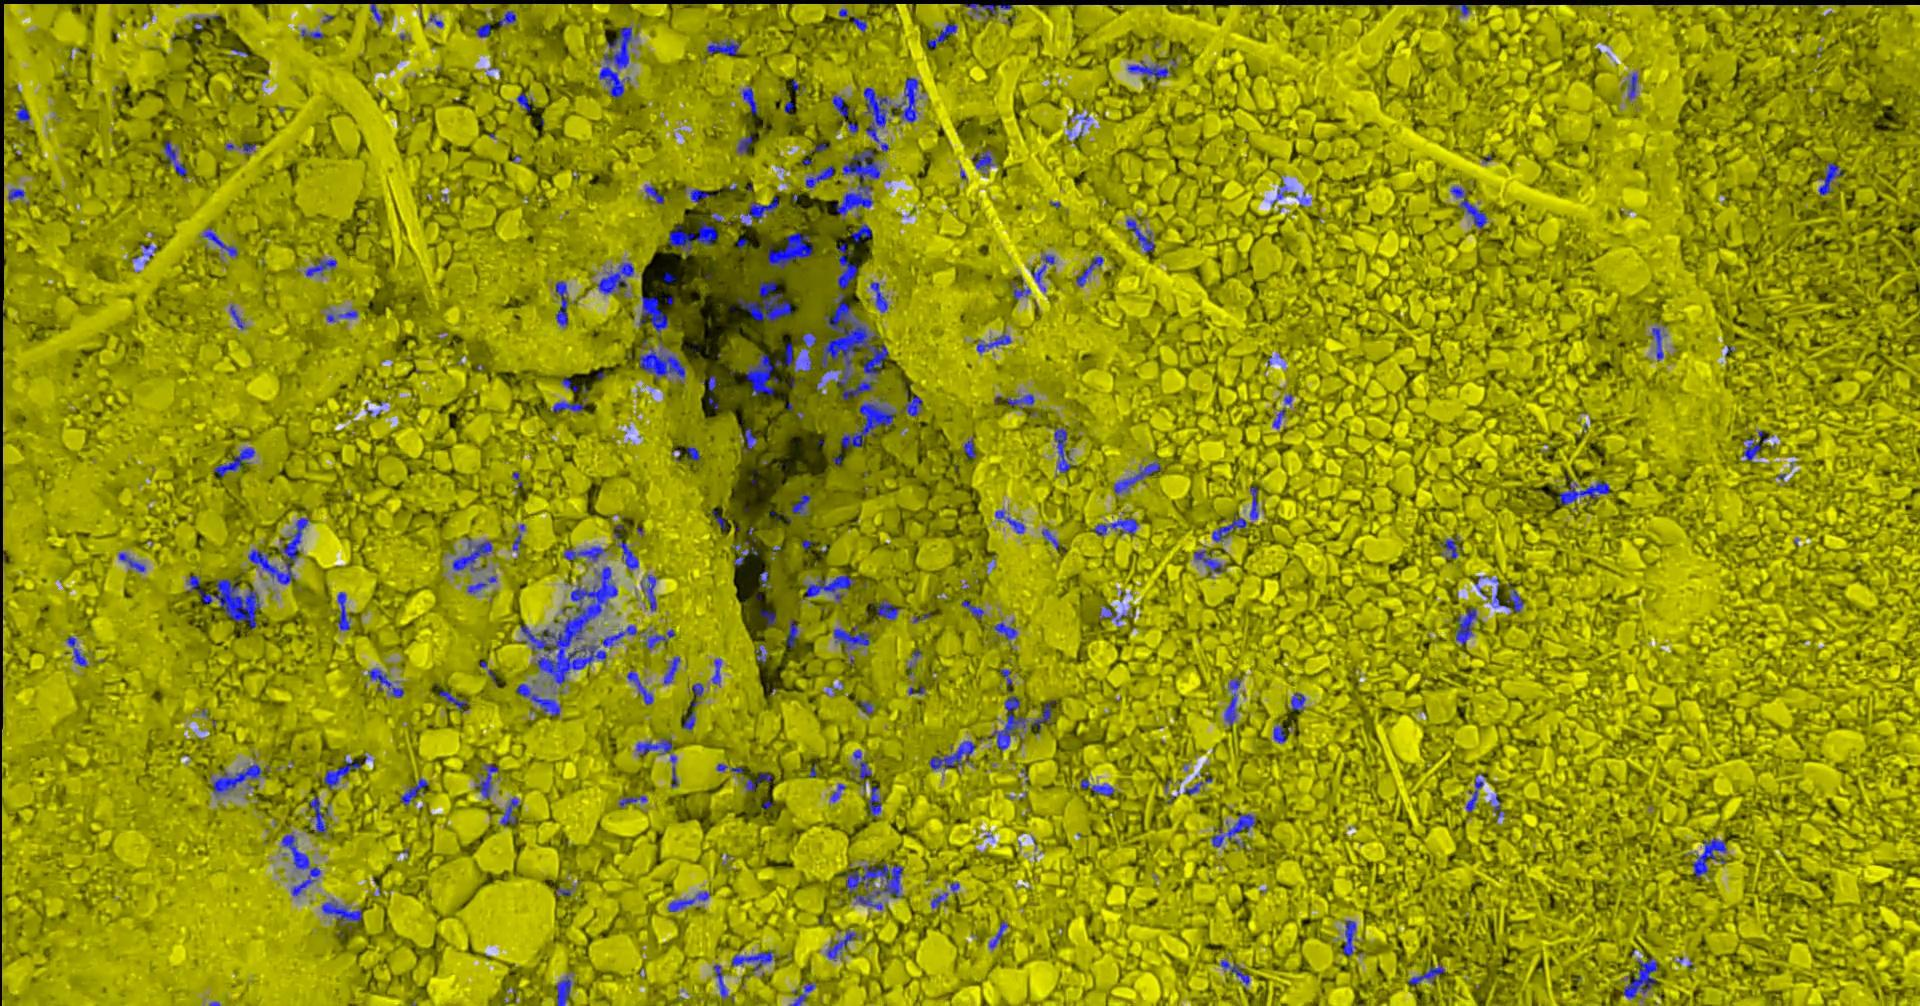ant: (248, 517, 309, 584), (745, 342, 795, 396), (841, 401, 895, 448), (281, 835, 320, 895), (598, 25, 631, 97), (737, 279, 792, 321), (990, 695, 1025, 749), (767, 231, 813, 269), (637, 345, 684, 382), (668, 220, 717, 254), (1474, 578, 1523, 612), (211, 763, 262, 794), (1450, 185, 1487, 227), (863, 86, 890, 142), (1622, 956, 1657, 998), (1112, 462, 1161, 493), (516, 683, 561, 715), (1211, 813, 1255, 846), (323, 754, 361, 789), (1691, 838, 1726, 876), (452, 539, 491, 572), (637, 295, 668, 337), (930, 741, 975, 768), (804, 574, 853, 600), (1557, 480, 1609, 504), (213, 447, 254, 476), (893, 77, 918, 122), (597, 262, 632, 293), (321, 898, 361, 925), (367, 668, 403, 697), (202, 227, 237, 255), (825, 929, 856, 960), (1125, 218, 1154, 251), (1128, 58, 1168, 81), (1211, 514, 1246, 541), (626, 669, 653, 704), (1030, 254, 1054, 291), (667, 890, 709, 911), (731, 950, 773, 970), (163, 140, 185, 177), (599, 625, 636, 648), (744, 196, 778, 220), (1031, 699, 1055, 733), (1455, 607, 1477, 645), (1053, 427, 1070, 473), (1817, 163, 1843, 194), (833, 627, 870, 649), (1093, 517, 1138, 535), (475, 763, 498, 798), (1076, 257, 1102, 286), (1220, 958, 1250, 984), (1407, 963, 1443, 984), (400, 777, 427, 805), (1742, 431, 1768, 460), (1224, 678, 1239, 725), (927, 23, 956, 47), (1465, 774, 1484, 810), (309, 796, 328, 833), (853, 749, 871, 789), (973, 334, 1011, 352), (996, 511, 1023, 533), (563, 546, 604, 561), (805, 165, 834, 187), (1192, 550, 1222, 572), (439, 690, 469, 711), (731, 542, 758, 565), (66, 636, 86, 666), (303, 258, 337, 276), (635, 738, 670, 754), (555, 281, 568, 326), (869, 600, 899, 619), (644, 629, 674, 648), (789, 982, 814, 1005), (560, 377, 587, 399), (617, 541, 637, 569), (988, 920, 1007, 949), (963, 3, 1011, 14), (337, 591, 350, 630), (971, 149, 997, 170), (1079, 779, 1112, 795), (641, 574, 657, 610), (706, 39, 740, 55), (712, 964, 728, 998), (870, 282, 888, 311), (1342, 920, 1356, 956), (118, 553, 145, 572), (744, 772, 772, 790), (500, 796, 518, 824), (1440, 536, 1462, 559), (1041, 528, 1064, 549), (1651, 326, 1665, 359), (663, 655, 679, 683), (1183, 777, 1211, 794), (555, 976, 570, 1005), (832, 95, 853, 116), (791, 493, 810, 516), (742, 86, 757, 114), (682, 701, 697, 729), (850, 224, 871, 243), (961, 600, 983, 619), (993, 621, 1016, 639), (552, 399, 584, 412), (1006, 394, 1034, 408), (869, 786, 881, 815), (1010, 281, 1030, 298), (1271, 183, 1288, 205), (904, 395, 921, 417), (742, 427, 756, 452), (785, 619, 797, 647), (326, 310, 357, 321), (801, 332, 817, 354), (644, 185, 663, 203), (512, 523, 524, 550), (690, 188, 714, 202), (229, 304, 243, 328), (370, 3, 383, 25), (618, 795, 646, 807), (516, 93, 533, 111), (1250, 486, 1258, 520), (737, 133, 752, 152), (999, 668, 1012, 691), (1290, 692, 1305, 711), (1272, 406, 1285, 428), (498, 10, 516, 25), (759, 608, 775, 626), (138, 243, 157, 257), (830, 782, 844, 801), (1627, 72, 1637, 98), (963, 438, 975, 459), (931, 892, 947, 907), (15, 103, 29, 121), (855, 700, 872, 714), (711, 509, 724, 528), (1272, 725, 1286, 742), (711, 658, 720, 683), (476, 22, 490, 37), (8, 188, 24, 201), (703, 373, 716, 390), (670, 754, 677, 788), (300, 29, 323, 38), (852, 17, 866, 30), (686, 446, 700, 460), (467, 582, 486, 592), (756, 644, 766, 662), (691, 682, 703, 696)
